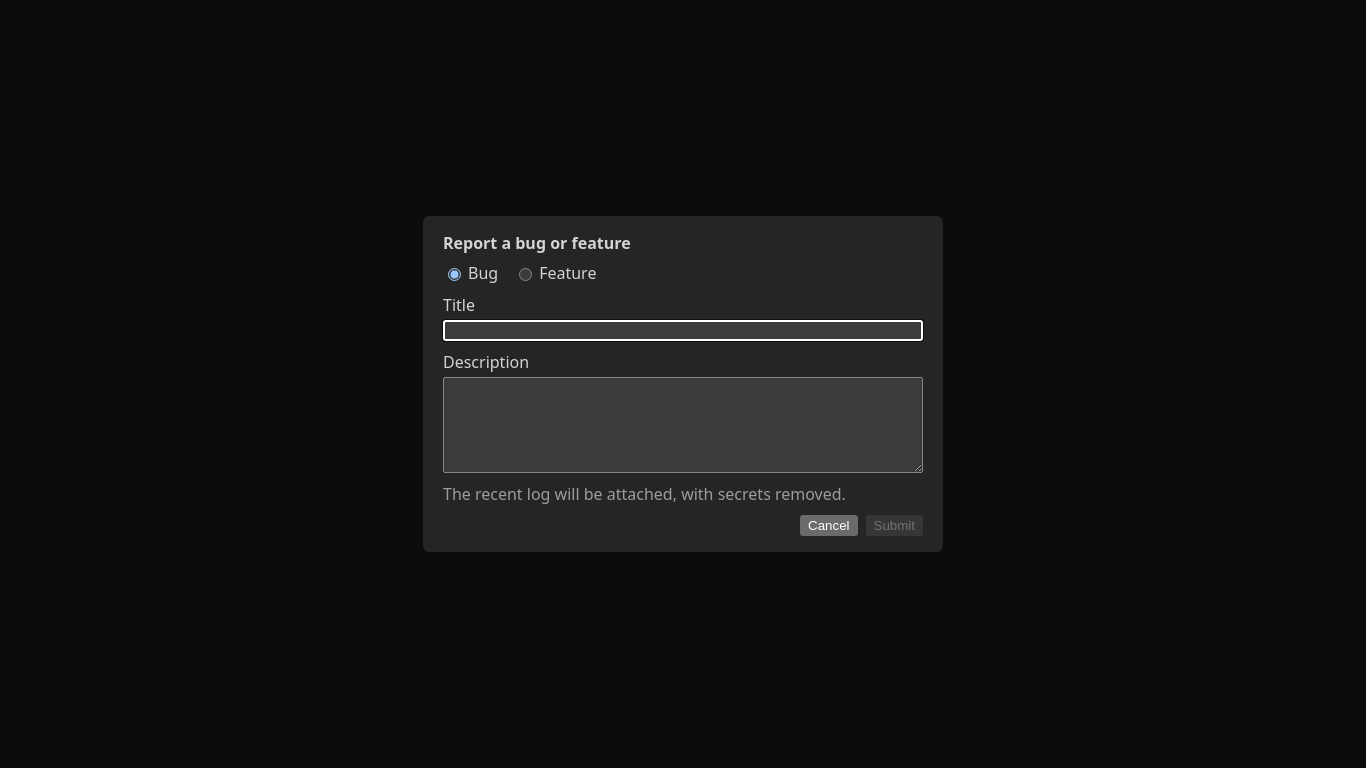
Test: ReportDialog › shows the error and keeps what was typed when filing fails
In the field labelled "Title": point(683, 330) x1=443 y1=320 x2=923 y2=341, type "Crash"
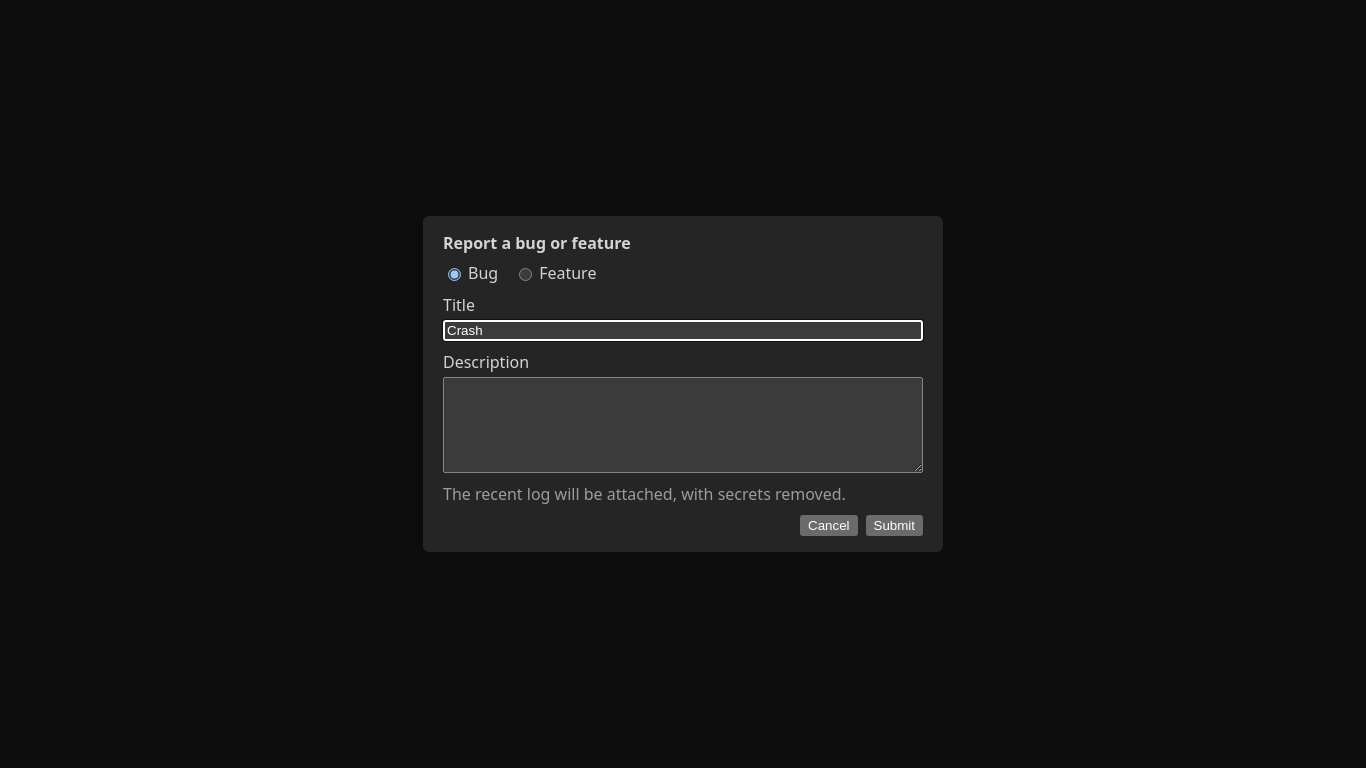
In the text box labelled "Description": point(683, 425) x1=443 y1=377 x2=923 y2=473, type "On start"
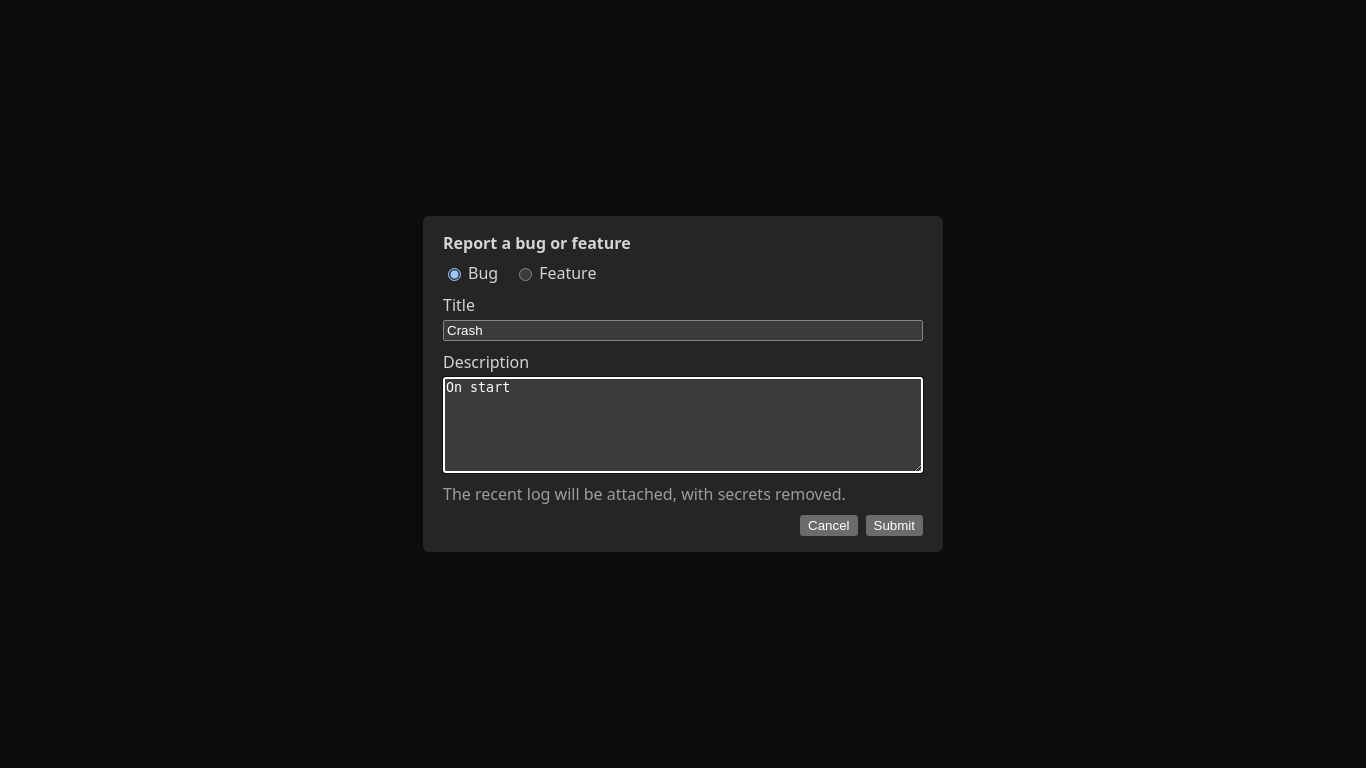
Click the button "Submit": point(894, 526) x1=866 y1=515 x2=923 y2=536
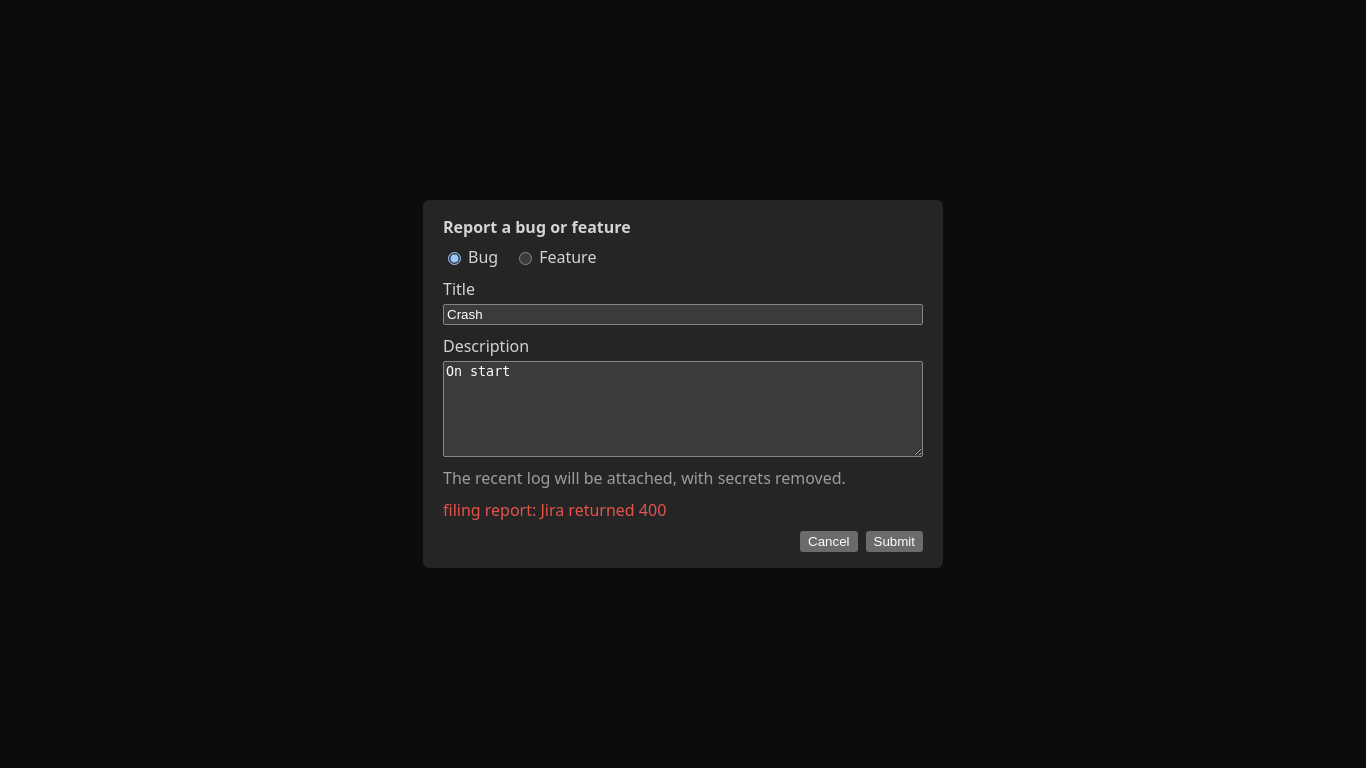
Check: the button "Submit" is enabled, box x1=866 y1=531 x2=923 y2=552
Check: the message reads "filing report: Jira returned 400", box x1=443 y1=499 x2=666 y2=521
